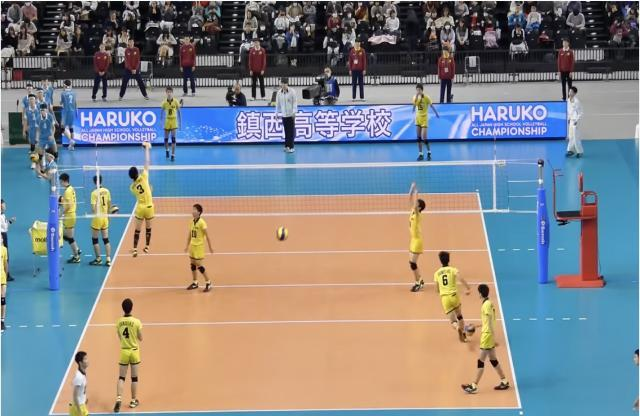spike: (125, 136, 163, 260)
